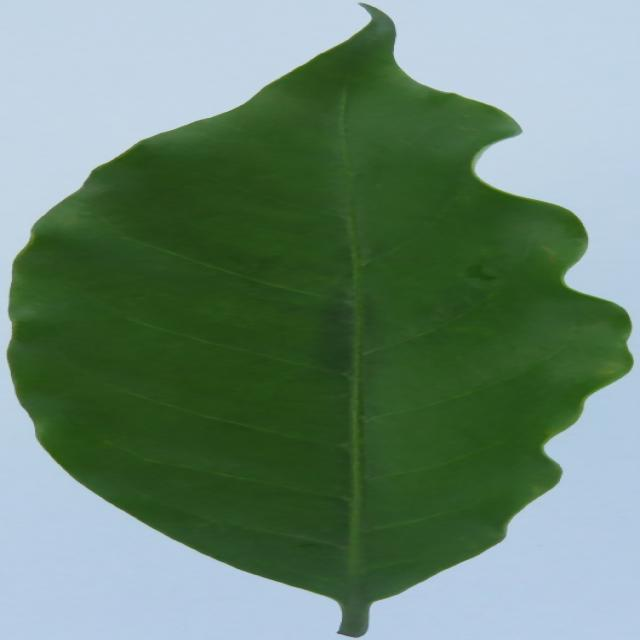DeficienciaNutricional-Calcio: (10, 5, 630, 636)
